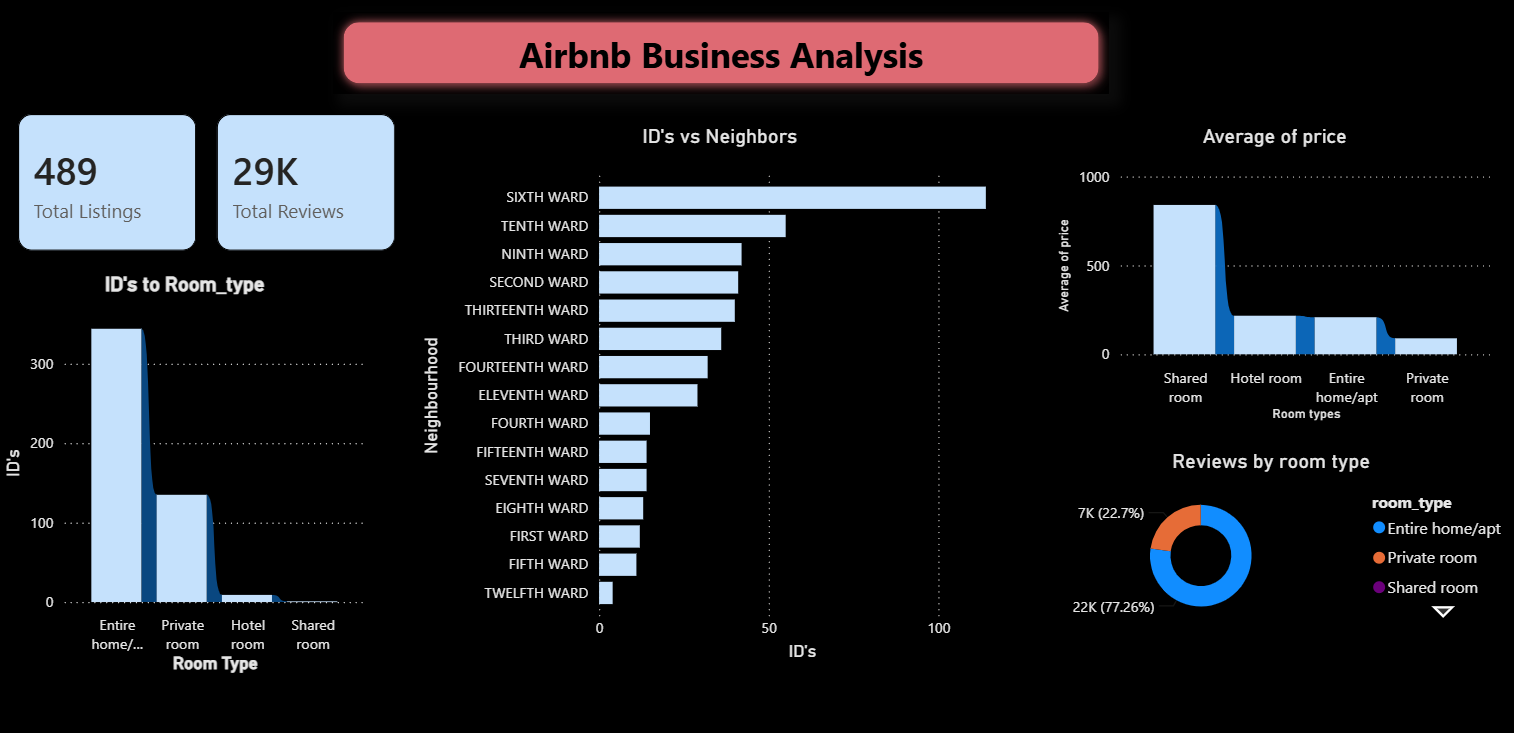

Layout of this report page (visuals, bound fields, positions):
{"tool":"powerbi","page":{"name":"Page 1","canvas":[1280,720],"ordinal":0},"visuals":[{"type":"shape","box":[282.1,10.5,653.7,69.5],"z":0},{"type":"cardVisual","fields":{"Data":["airbnb_cleaned_data.Total Listings"]},"box":[0,80,184.6,149.2],"z":1000},{"type":"cardVisual","fields":{"Data":["airbnb_cleaned_data.Total Reviews"]},"box":[167.4,80,184.6,149.2],"z":2000},{"type":"columnChart","title":"ID''s  to Room_type","fields":{"Category":["airbnb_cleaned_data.room_type"],"Y":["CountNonNull(airbnb_cleaned_data.ID)"]},"box":[0,229.5,314.7,343.2],"z":2001},{"type":"columnChart","title":"Average of price ","fields":{"Category":["airbnb_cleaned_data.room_type"],"Y":["Avg(airbnb_cleaned_data.price)"]},"box":[887.4,105.3,375.8,254.7],"z":2002},{"type":"barChart","title":"ID''s vs Neighbors ","fields":{"Category":["airbnb_cleaned_data.neighbourhood"],"Y":["Count(airbnb_cleaned_data.ID)"]},"box":[351.6,105.3,512.6,456.8],"z":2003},{"type":"donutChart","title":"Reviews by room type","fields":{"Category":["airbnb_cleaned_data.room_type"],"Y":["Sum(airbnb_cleaned_data.number_of_reviews)"]},"box":[864.2,378.9,415.8,149.5],"z":2004}]}

Visuals, with their boxes on the page's 1280x720 design canvas (x1, y1, x2, y2). These are canvas units, not pixel positions in the 1514x733 screenshot, which may show the page scaled, cropped or inside an application window:
shape: crop(282, 10, 936, 80)
cardVisual - airbnb_cleaned_data.Total Listings: crop(0, 80, 185, 229)
cardVisual - airbnb_cleaned_data.Total Reviews: crop(167, 80, 352, 229)
"ID''s  to Room_type" columnChart: crop(0, 230, 315, 573)
"Average of price " columnChart: crop(887, 105, 1263, 360)
"ID''s vs Neighbors " barChart: crop(352, 105, 864, 562)
"Reviews by room type" donutChart: crop(864, 379, 1280, 528)
